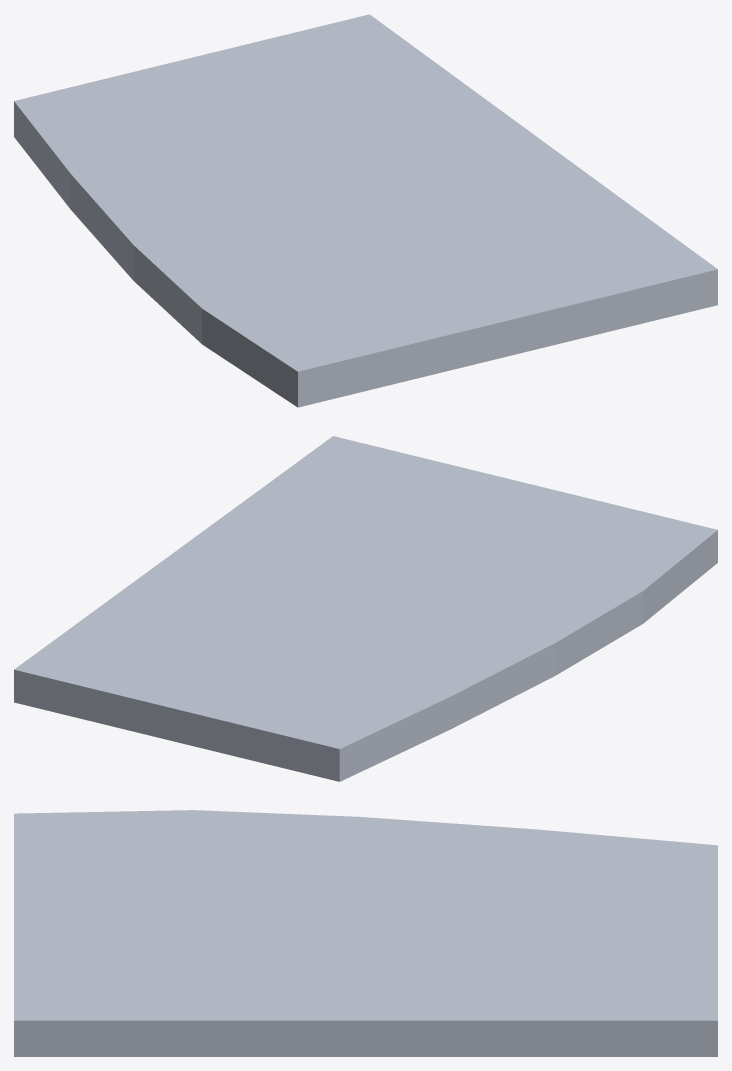
File: base_desk.glb
3 views of the same model, one above another, from view 1: azimuth 30°, elevation 25°; view 2: azimuth 150°, elevation 25°; view 3: azimuth 270°, elevation 25° (orthographic). The views are drawn at different scales.
Visible parts, largest first — view 1: base_desk; view 2: base_desk; view 3: base_desk.
Boxes of the visible parts, box(x1,y1,x2,y2) form: base_desk: box(14, 14, 717, 407); base_desk: box(14, 436, 717, 781); base_desk: box(14, 810, 717, 1056).
Size of the model in its own units: 3.56 by 0.2856 by 5.03.
